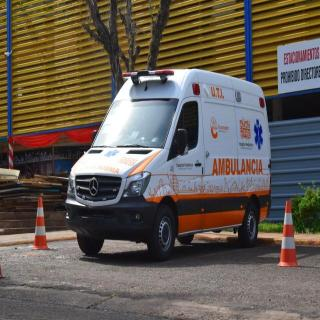Ambulance: (63, 51, 274, 259)
